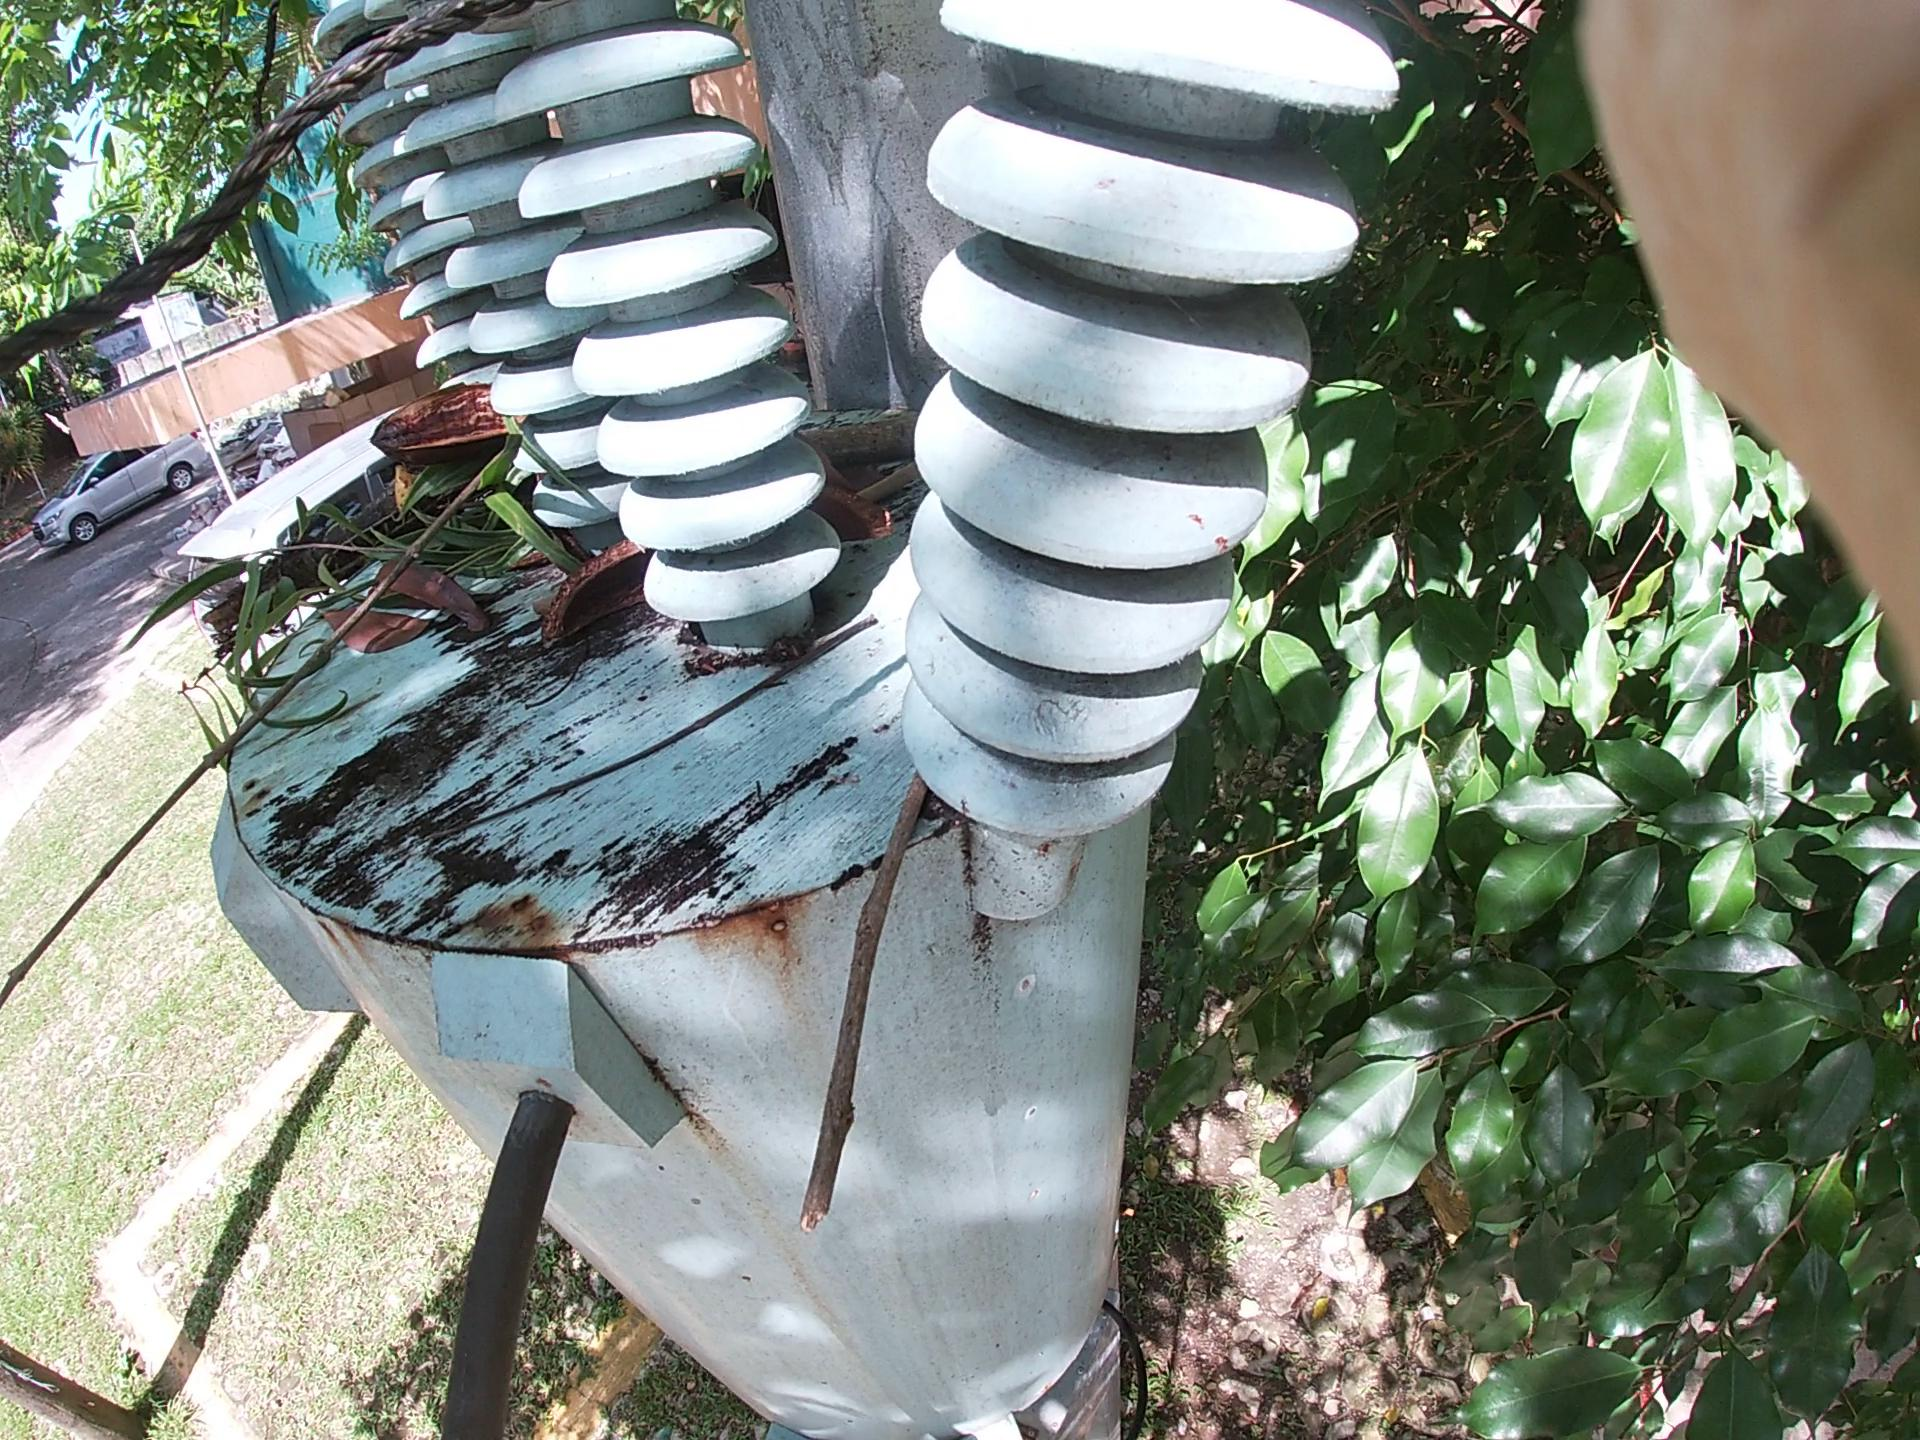branch with leaves: (157, 330, 531, 653)
leaf: (239, 498, 490, 711)
mahogany fruit: (525, 537, 705, 659), (345, 371, 505, 493)
tree branch: (30, 449, 547, 982), (531, 617, 915, 829), (776, 759, 936, 1224), (782, 384, 962, 594)
